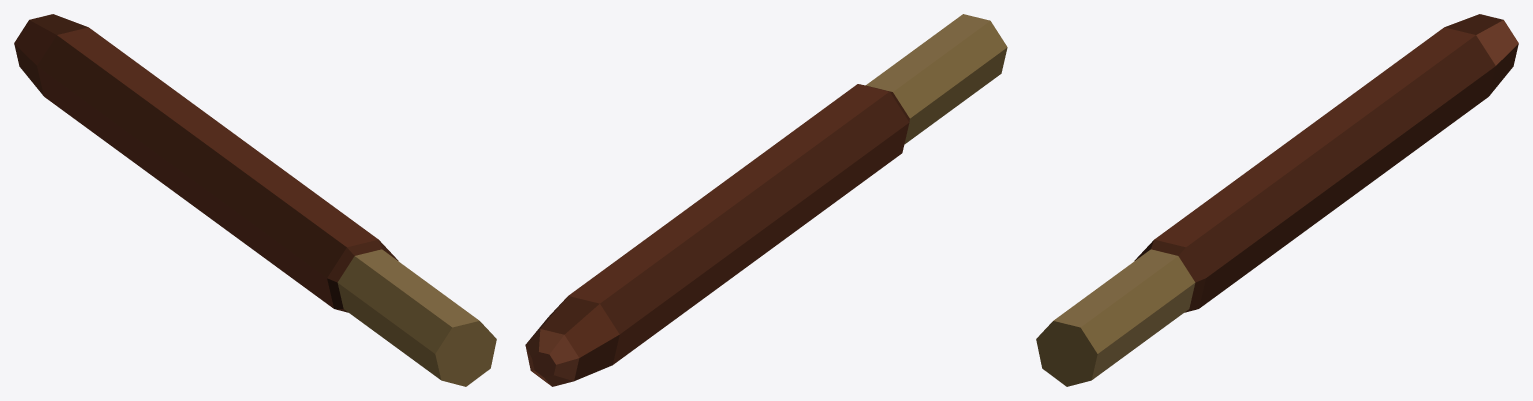
Rendered from pink_stick.fbx.
3 renders of one model, left to right at view 1: azimuth 30°, elevation 25°; view 2: azimuth 150°, elevation 25°; view 3: azimuth 330°, elevation 25°, orthographic.
Parts seen in each view (by area): view 1: pink_stick; view 2: pink_stick; view 3: pink_stick.
Boxes of the visible parts, bbox=[...] form: pink_stick: bbox=[14, 14, 496, 386]; pink_stick: bbox=[525, 14, 1007, 386]; pink_stick: bbox=[1036, 14, 1518, 386].
Bounding box in the file's own units: 23.86 × 23.26 × 250.
